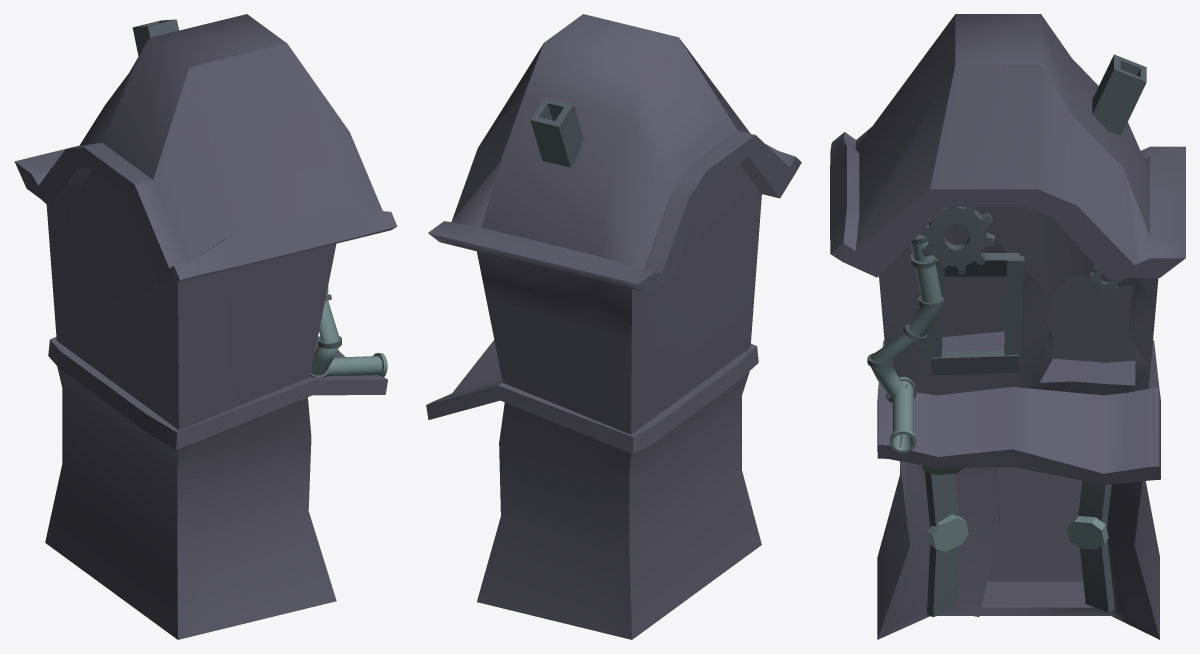
File: export fbx mid building waoo.fbx
3 renders of one model, left to right at view 1: azimuth 30°, elevation 25°; view 2: azimuth 150°, elevation 25°; view 3: azimuth 270°, elevation 25°, orthographic. The views are drawn at different scales.
Visible parts, largest first — view 1: pCube1, pCylinder16, pasted__pCylinder8, pCube13; view 2: pCube1, pCube13; view 3: pCube1, pCube5, pCylinder1, pCube6, pCube13, pasted__pCylinder8, pCube9, pCube8, pCylinder16, pCube12, pCube11, pCube7 (+1 smaller).
Boxes of the visible parts, x1,y1,x2,y2 form: pCube1: (14,14,397,639); pCylinder16: (327,353,387,376); pasted__pCylinder8: (311,286,339,375); pCube13: (132,19,178,55); pCube1: (426,14,801,639); pCube13: (530,97,583,167); pCube1: (830,14,1185,639); pCube5: (925,471,958,617); pCylinder1: (919,207,994,274); pCube6: (1078,480,1114,612); pCube13: (1092,54,1146,135); pasted__pCylinder8: (870,241,941,396); pCube9: (931,350,1019,375); pCube8: (1004,256,1024,365); pCylinder16: (889,377,916,453); pCube12: (1067,516,1108,549); pCube11: (928,514,968,551); pCube7: (936,253,1019,276).
Bounding box in the file's own units: 6.32 × 13.69 × 7.72.
